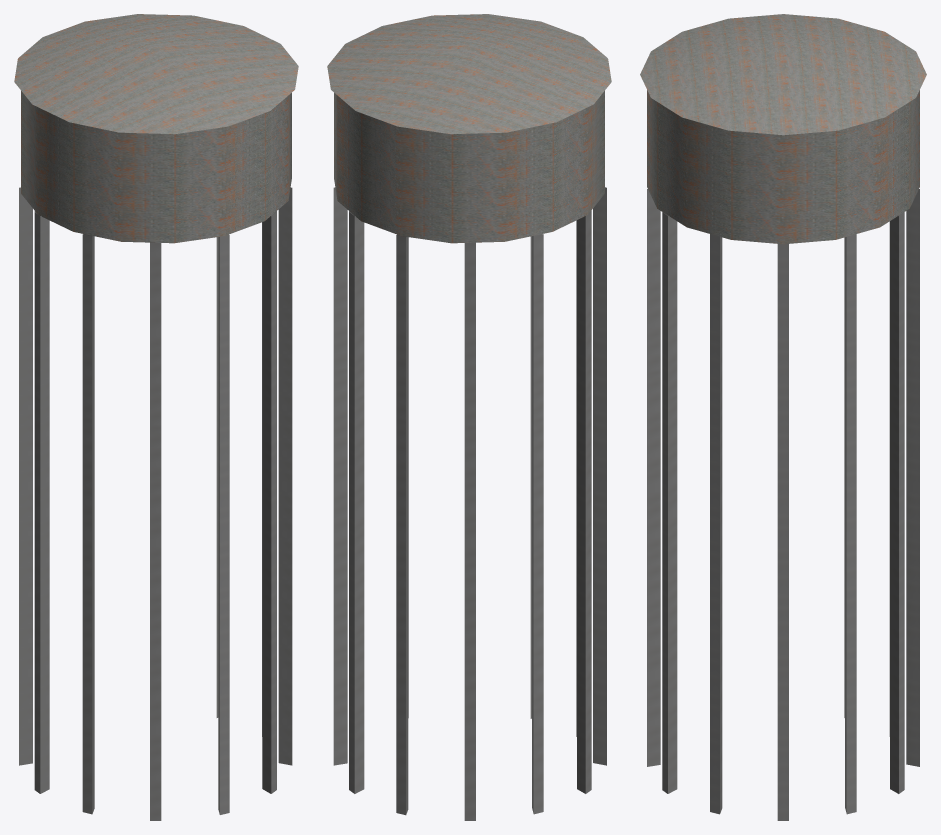
Rendered from water-tower-steel-legs-24x12-cbj_LOD02.gltf.
The picture shows the model from 3 angles, left to right: view 1: azimuth 30°, elevation 25°; view 2: azimuth 150°, elevation 25°; view 3: azimuth 270°, elevation 25°; orthographic projection.
Parts seen in each view (by area): view 1: Cylinder02; view 2: Cylinder02; view 3: Cylinder02.
Boxes of the visible parts, x1,y1,x2,y2 form: Cylinder02: (14, 14, 298, 820); Cylinder02: (327, 14, 611, 820); Cylinder02: (640, 14, 926, 820).
Bounding box in the file's own units: 12.6 × 34.69 × 12.6.
